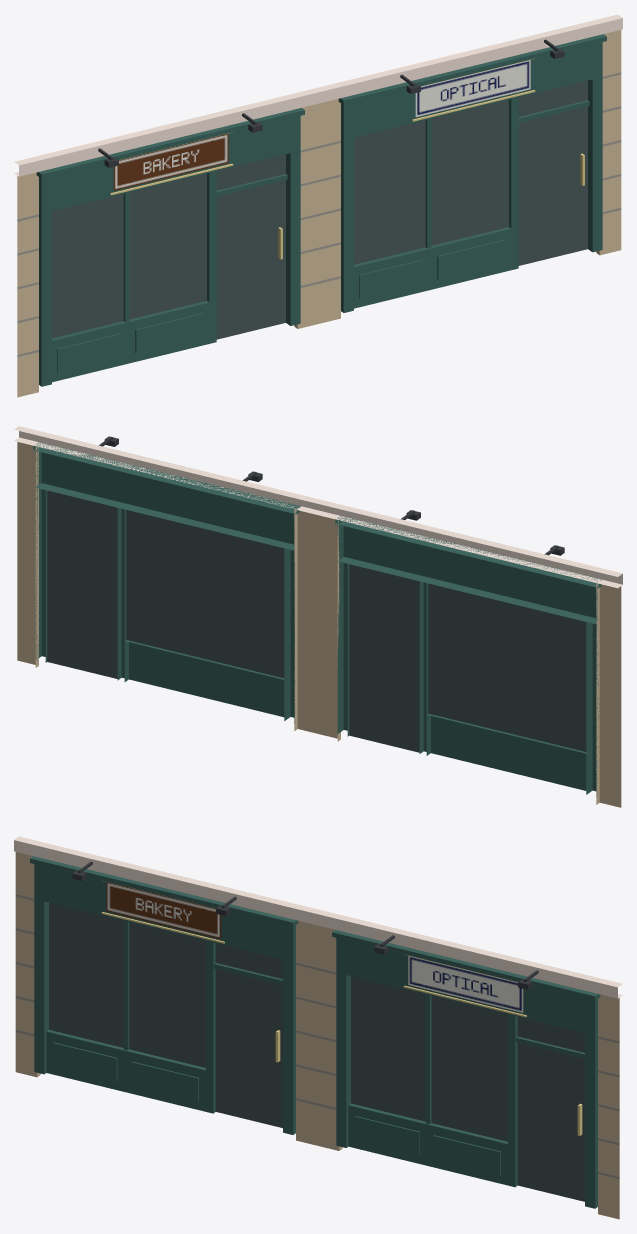
The model's file is base-w1_close.fbx.
The picture shows the model from 3 angles, top to bottom: view 1: azimuth 30°, elevation 25°; view 2: azimuth 150°, elevation 25°; view 3: azimuth 330°, elevation 25°; orthographic projection.
Parts seen in each view (by area): view 1: a2006/500/base-w1_close; view 2: a2006/500/base-w1_close; view 3: a2006/500/base-w1_close.
Part boxes in pixels (box(x1,y1,x2,y2)): a2006/500/base-w1_close: box(14, 14, 622, 397); a2006/500/base-w1_close: box(14, 426, 622, 807); a2006/500/base-w1_close: box(14, 836, 622, 1219).
Bounding box in the file's own units: 8.4 × 3.1 × 0.5.
